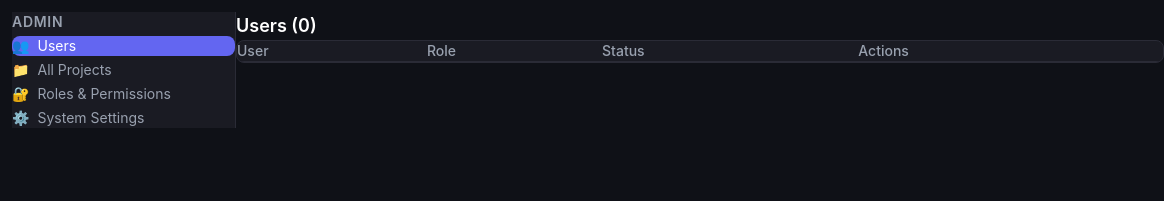
Scenario: AdminPage › shows new role form when "Create Custom Role" button is clicked
The width and height of the screenshot is (1164, 201).
Click the button "🔐 Roles & Permissions" at (124, 94), box 12,84 -> 235,104
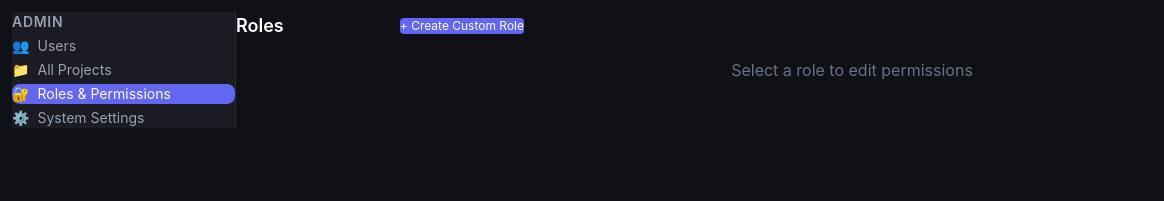
Result: the button "+ Create Custom Role" is shown
Click the button "+ Create Custom Role" at (462, 26), box 400,18 -> 524,34
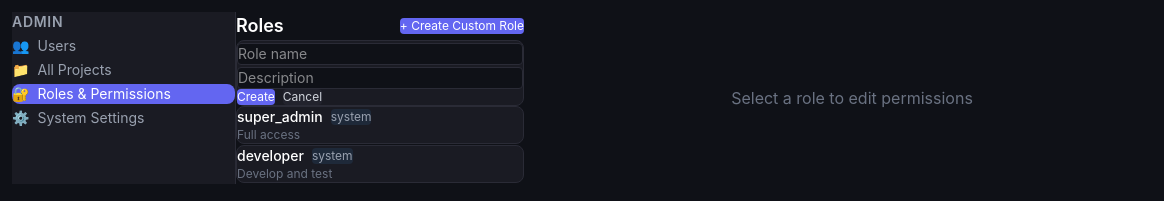
Result: the field with placeholder "Role name" is shown at 237,43 -> 523,65
Result: the field with placeholder "Description" is shown at 237,67 -> 523,89
Result: the button "Create" is shown at 237,89 -> 275,105
